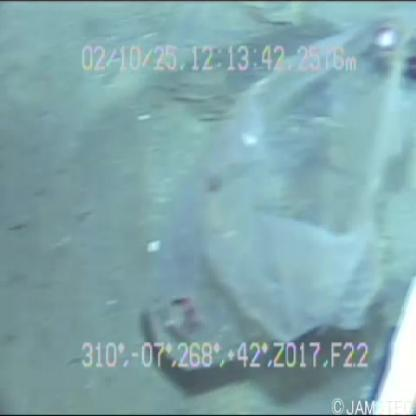Rác: (99, 24, 416, 390)
